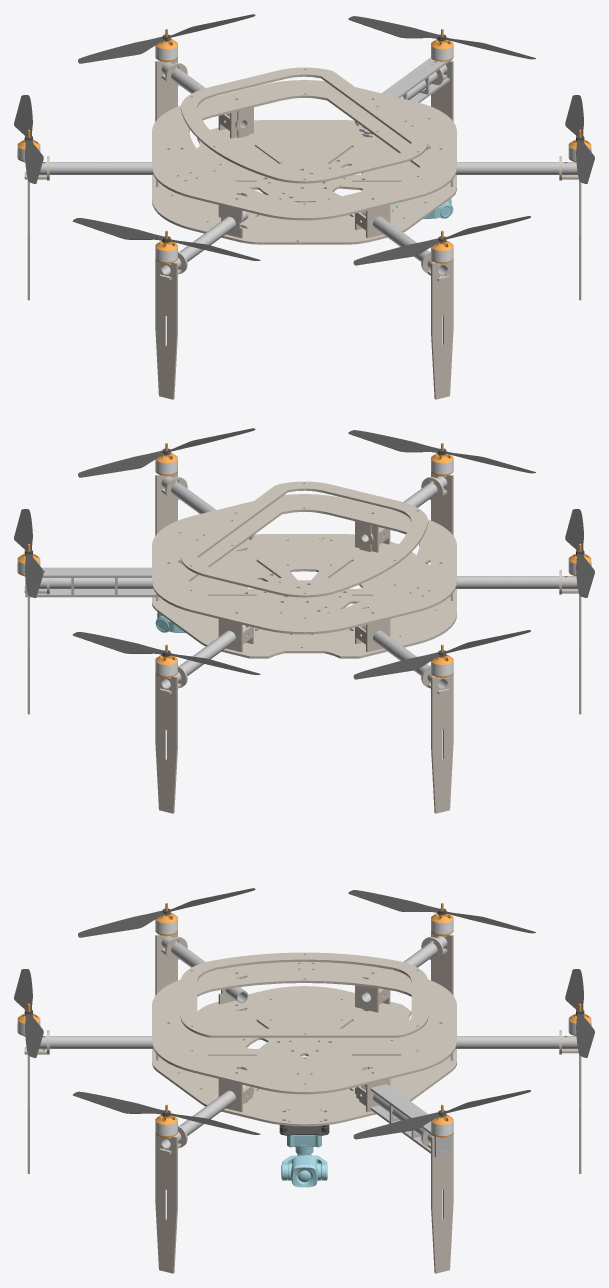
File: mobileTestDronenolid_and_nohere.gltf
3 views of the same model, one above another, from view 1: azimuth 30°, elevation 25°; view 2: azimuth 150°, elevation 25°; view 3: azimuth 270°, elevation 25° (orthographic).
Parts seen in each view (by area): view 1: Body1.559, Body1.582, Body1.679, Body1.545, Body1.520, Body1.524, Body1.530, Body2.057, Body2.011, Body2.058, Body2.060, Body2.059 (+7 smaller); view 2: Body1.559, Body1.582, Body1.679, Body1.539, Body1.542, Body1.532, Body2.011, Body2.059, Body2.056, Body2.058, Body2.057, Body2.060 (+9 smaller); view 3: Body1.559, Body1.582, Body1.679, Body1.533, Body1.536, Body1.106, Body1.528, Body1.519, Body2.056, Body2.057, Body2.059, Body2.060 (+8 smaller).
Part boxes in pixels (x1,y1,x2,y2): Body1.559: (152, 120, 456, 244); Body1.582: (152, 80, 456, 220); Body1.679: (180, 67, 428, 183); Body1.545: (155, 259, 177, 399); Body1.520: (431, 259, 453, 399); Body1.524: (455, 162, 577, 174); Body1.530: (39, 162, 153, 174); Body2.057: (348, 16, 535, 59); Body2.011: (353, 216, 530, 265); Body2.058: (78, 14, 255, 63); Body2.060: (73, 218, 260, 260); Body2.059: (14, 95, 43, 183); Body1.559: (152, 534, 456, 658); Body1.582: (152, 494, 456, 634); Body1.679: (180, 481, 428, 597); Body1.539: (155, 673, 177, 813); Body1.542: (431, 673, 453, 813); Body1.532: (455, 576, 577, 588); Body2.011: (348, 430, 535, 473); Body2.059: (353, 630, 530, 679); Body2.056: (78, 428, 255, 477); Body2.058: (73, 632, 260, 674); Body2.057: (14, 509, 43, 597); Body2.060: (565, 509, 594, 597); Body1.559: (152, 986, 456, 1126); Body1.582: (152, 961, 456, 1094); Body1.679: (180, 952, 428, 1037); Body1.533: (155, 1133, 177, 1273); Body1.536: (431, 1133, 453, 1273); Body1.106: (281, 1133, 327, 1187); Body1.528: (455, 1036, 577, 1048); Body1.519: (39, 1036, 153, 1048); Body2.056: (73, 1091, 260, 1134); Body2.057: (353, 1090, 530, 1139); Body2.059: (348, 890, 535, 933); Body2.060: (78, 888, 255, 937).
Size of the model in its own units: 0.72 by 0.3682 by 0.7041.
